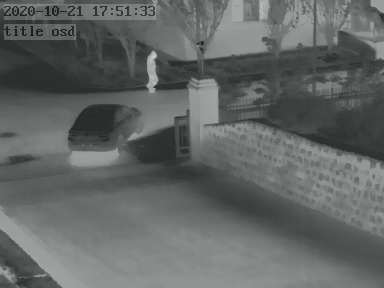person: (144, 48, 160, 92)
vehicle: (65, 99, 149, 153)
